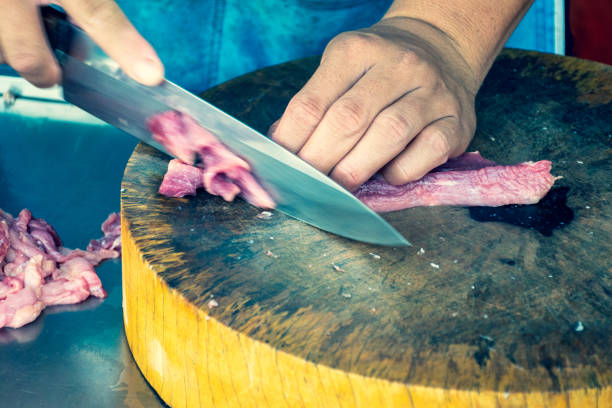knife: (57, 19, 416, 250)
